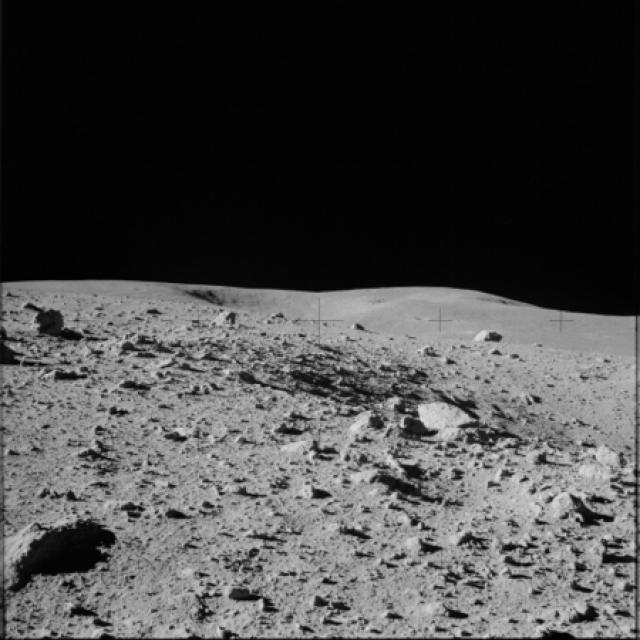rock: (0, 514, 101, 583), (358, 392, 477, 446), (569, 436, 639, 488), (351, 454, 423, 503), (545, 486, 601, 532), (16, 299, 81, 329), (268, 432, 325, 466), (209, 304, 241, 330), (473, 324, 505, 346)
